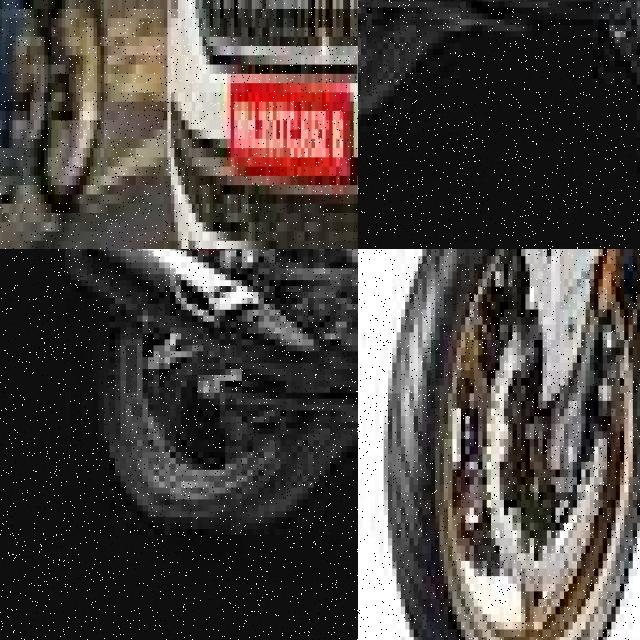bike: (71, 249, 358, 640), (379, 249, 640, 640), (358, 0, 640, 249)
car: (167, 0, 358, 249)
